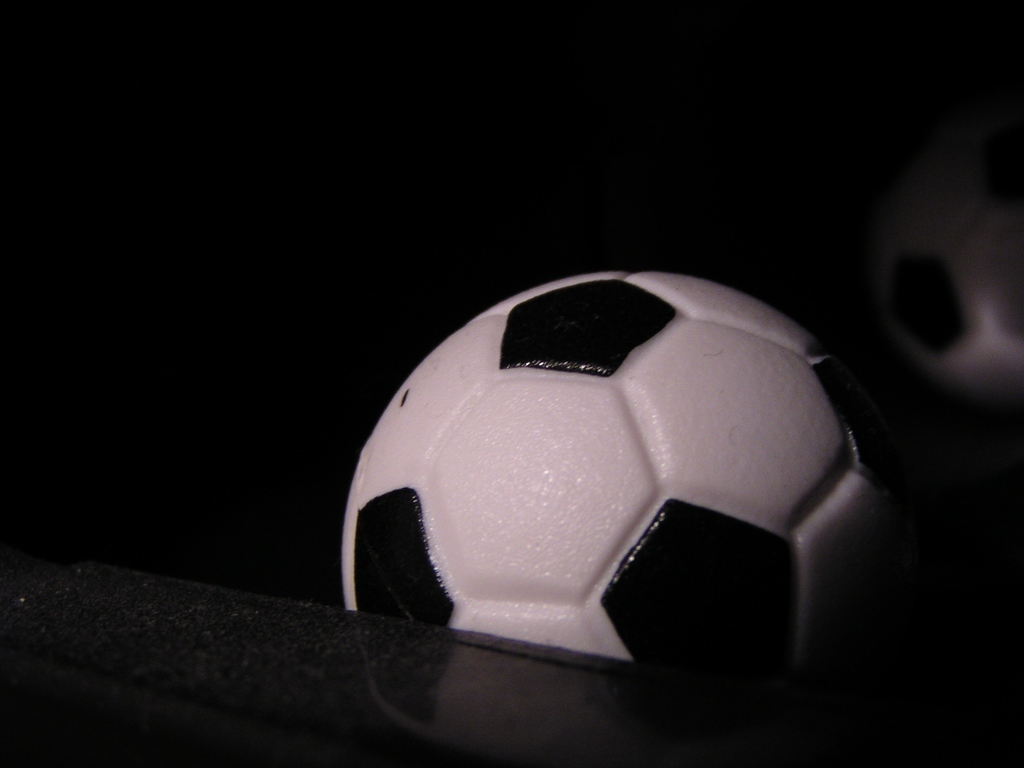Ball: (344, 269, 894, 699)
